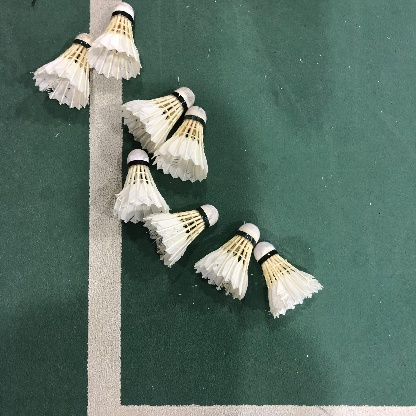ball_single: (253, 241, 323, 319), (194, 223, 260, 300), (121, 87, 195, 153), (143, 204, 219, 267), (33, 33, 94, 109), (86, 2, 141, 80), (153, 106, 208, 182), (114, 149, 169, 224)
